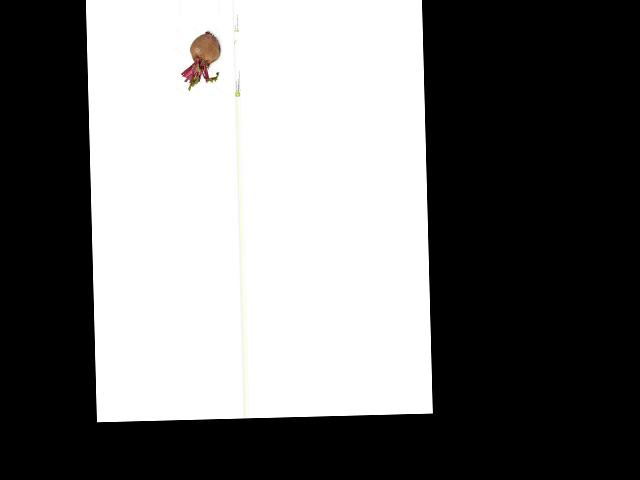beet: (180, 30, 220, 90)
